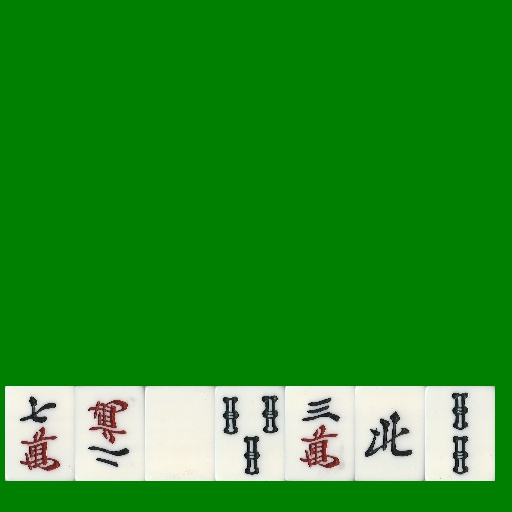2m: (75, 386, 145, 481)
2s: (425, 386, 495, 481)
3m: (285, 386, 355, 481)
3s: (215, 386, 285, 481)
7m: (5, 386, 75, 481)
north: (355, 386, 425, 481)
white: (145, 386, 215, 481)
